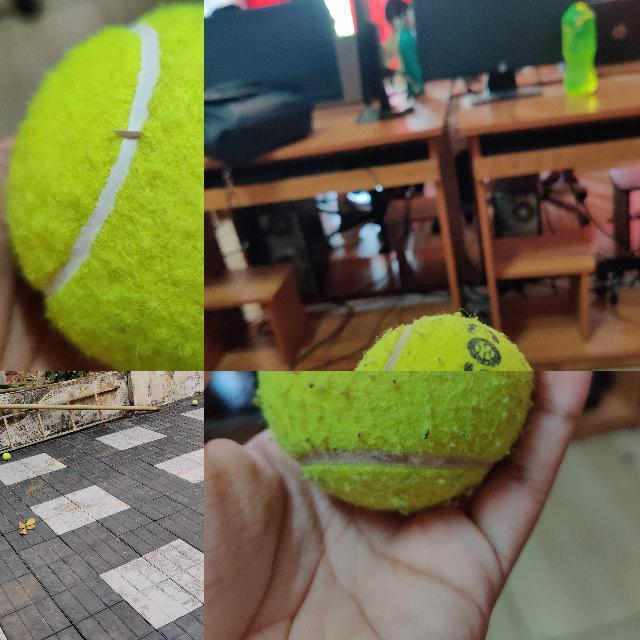tennis-ball: (9, 7, 203, 370), (255, 371, 534, 511), (342, 315, 544, 370), (2, 452, 10, 460), (191, 399, 197, 405)
